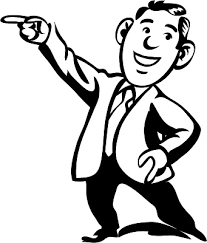hand: (1, 11, 56, 50)
